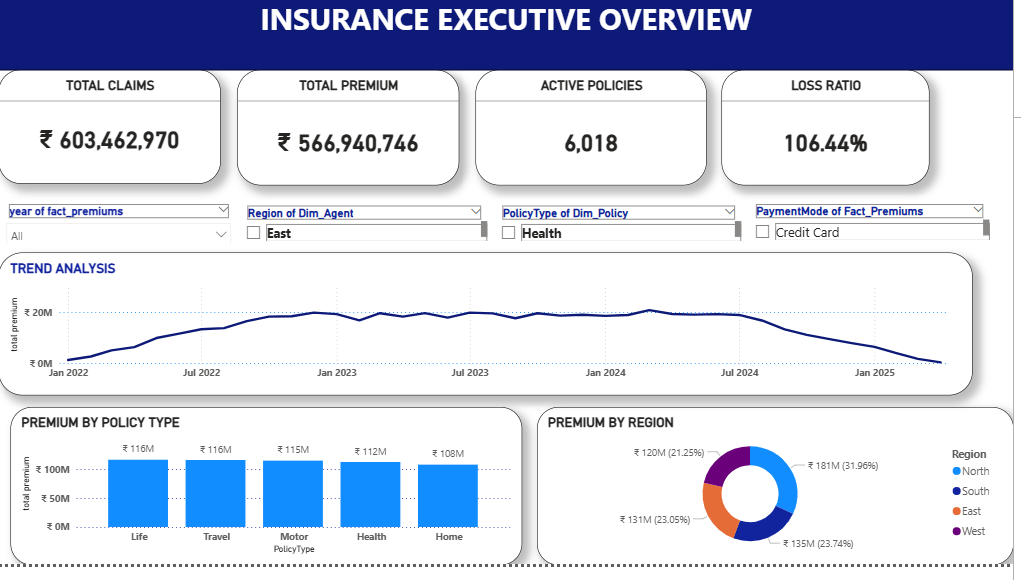

The dashboard page shown, as its layout file describes it:
{"tool":"powerbi","page":{"name":"Page 1","canvas":[1280,720],"ordinal":0},"visuals":[{"type":"card","title":"TOTAL CLAIMS","fields":{"Values":["Fact_Claims.Total claims"]},"box":[1.6,97.2,280.1,144.1],"z":0},{"type":"card","title":"TOTAL PREMIUM","fields":{"Values":["Fact_Premiums.total premium"]},"box":[302.8,97.2,280.1,145.7],"z":1000},{"type":"card","title":"LOSS RATIO","fields":{"Values":["Dim_Customer.loss ratio"]},"box":[913.2,97.2,262.3,145.7],"z":2000},{"type":"card","title":"ACTIVE POLICIES","fields":{"Values":["Fact_Policies.active policies"]},"box":[602.4,97.2,291.5,145.7],"z":3000},{"type":"lineChart","title":"TREND ANALYSIS","fields":{"Y":["Fact_Premiums.total premium"],"Category":["Fact_Premiums.Date.Variation.Date Hierarchy.Year","Fact_Premiums.Date.Variation.Date Hierarchy.Month"]},"box":[1.6,327.1,1227.4,179.7],"z":4000},{"type":"clusteredColumnChart","title":"PREMIUM BY POLICY TYPE","fields":{"Category":["Dim_Policy.PolicyType"],"Y":["Fact_Premiums.total premium"]},"box":[16.2,521.4,644.5,199.2],"z":5000},{"type":"donutChart","title":"PREMIUM BY REGION","fields":{"Category":["Dim_Agent.Region"],"Y":["Fact_Premiums.total premium"]},"box":[680.1,521.4,600.7,199.2],"z":6000},{"type":"textbox","box":[1.6,0,1279.2,97.2],"z":7000},{"type":"slicer","fields":{"Values":["Fact_Premiums.year"]},"box":[1.6,260.7,302.8,55.1],"z":8000},{"type":"slicer","fields":{"Values":["Dim_Agent.Region"]},"box":[302.8,262.3,320.6,53.4],"z":9000},{"type":"slicer","fields":{"Values":["Dim_Policy.PolicyType"]},"box":[623.4,262.3,319,53.4],"z":10000},{"type":"slicer","fields":{"Values":["Fact_Premiums.PaymentMode"]},"box":[942.4,260.7,312.5,55.1],"z":11000}]}

Visuals, with their boxes in screenshot pixels (x1, y1, x2, y2), scaled from the page's 1280x720 canvas onto the 1021x580 screenshot:
"TOTAL CLAIMS" card: region(1, 78, 225, 194)
"TOTAL PREMIUM" card: region(242, 78, 465, 196)
"LOSS RATIO" card: region(728, 78, 938, 196)
"ACTIVE POLICIES" card: region(481, 78, 713, 196)
"TREND ANALYSIS" lineChart: region(1, 263, 980, 408)
"PREMIUM BY POLICY TYPE" clusteredColumnChart: region(13, 420, 527, 579)
"PREMIUM BY REGION" donutChart: region(542, 420, 1020, 579)
textbox: region(1, 0, 1020, 78)
slicer - Fact_Premiums.year: region(1, 210, 243, 254)
slicer - Dim_Agent.Region: region(242, 211, 497, 254)
slicer - Dim_Policy.PolicyType: region(497, 211, 752, 254)
slicer - Fact_Premiums.PaymentMode: region(752, 210, 1001, 254)
